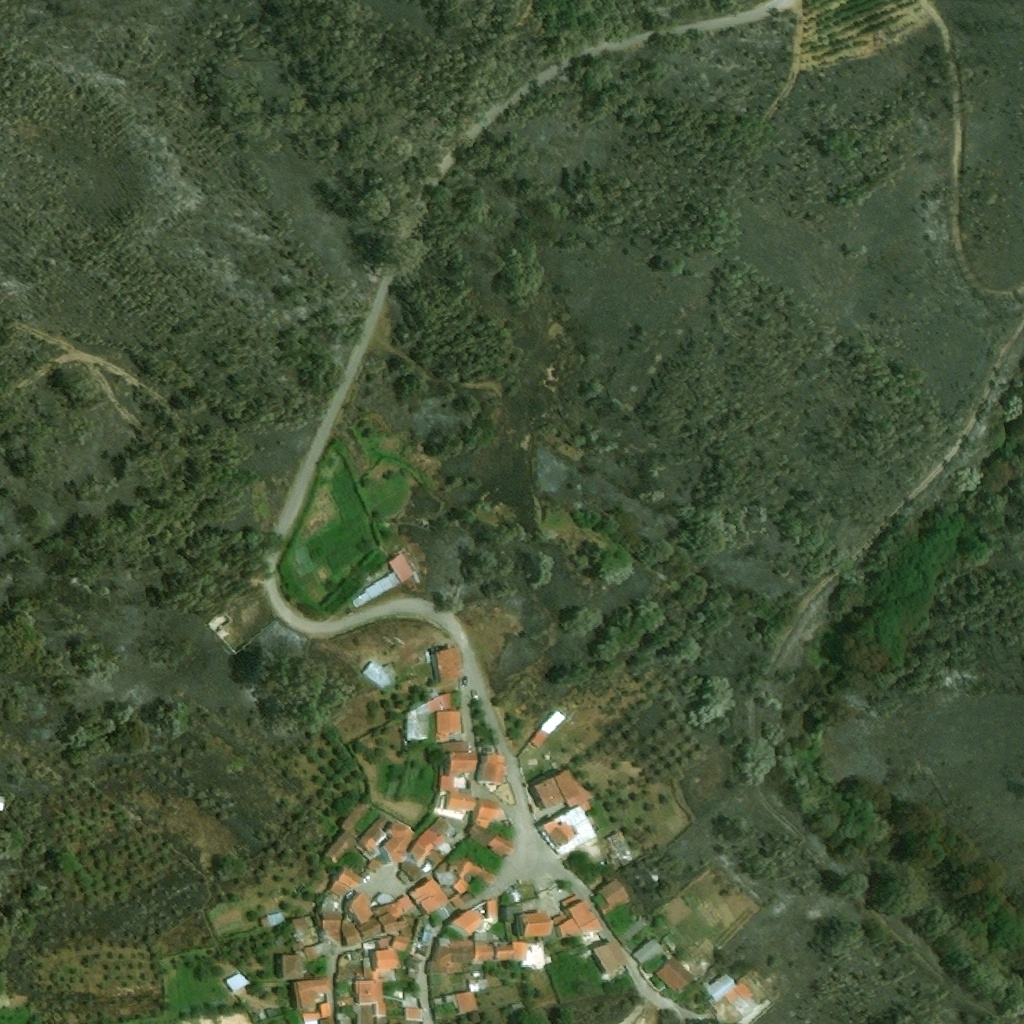0 no-damage: (408, 856, 497, 914), (341, 896, 413, 947), (355, 943, 403, 1016), (324, 802, 373, 865), (405, 691, 461, 742), (468, 799, 515, 857), (553, 895, 604, 938), (425, 938, 475, 976), (409, 815, 451, 860), (351, 573, 400, 609), (355, 815, 389, 861), (554, 769, 593, 808), (379, 821, 415, 863), (440, 751, 477, 791), (654, 956, 693, 992), (431, 647, 465, 686), (325, 866, 364, 899), (293, 976, 331, 1009), (528, 776, 564, 810), (593, 939, 628, 973), (598, 880, 630, 917), (617, 911, 652, 944), (530, 713, 562, 748), (322, 895, 342, 944), (518, 911, 554, 938), (363, 661, 396, 690), (477, 753, 506, 786), (542, 820, 575, 848), (450, 909, 483, 937), (705, 973, 735, 1002), (632, 938, 663, 966), (347, 890, 372, 924), (387, 554, 413, 583), (445, 991, 478, 1012), (446, 788, 476, 811), (399, 861, 425, 883), (430, 903, 456, 925), (282, 954, 304, 978), (225, 972, 251, 992), (404, 954, 422, 981), (260, 912, 288, 928), (370, 893, 394, 910), (425, 847, 445, 867), (475, 944, 496, 961), (359, 1003, 376, 1023), (734, 982, 752, 1000), (440, 741, 468, 752), (393, 934, 410, 952), (514, 941, 530, 960), (404, 1007, 424, 1022), (495, 943, 514, 958), (304, 946, 321, 962), (724, 988, 741, 1004), (292, 917, 310, 932), (336, 1012, 360, 1023), (419, 926, 433, 943), (510, 1000, 527, 1014), (505, 905, 524, 917), (660, 935, 675, 950), (335, 996, 354, 1007), (303, 1012, 321, 1023), (367, 859, 381, 873), (320, 1002, 332, 1018), (472, 979, 488, 991), (487, 901, 497, 917), (418, 519, 431, 531), (434, 679, 455, 686), (580, 801, 590, 811), (320, 1017, 334, 1023), (706, 997, 715, 1006), (293, 942, 304, 949), (0, 795, 4, 811), (376, 1017, 381, 1023)
4 un-classified: (205, 614, 225, 631), (215, 624, 232, 640)
